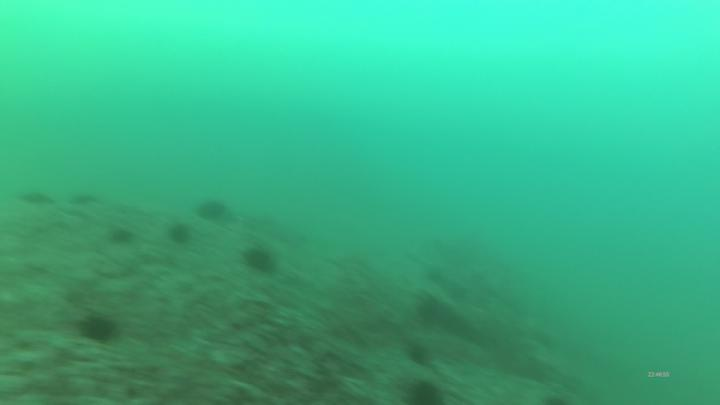echinus: (79, 310, 116, 347), (403, 378, 446, 405), (240, 244, 277, 275), (197, 198, 229, 222), (406, 343, 435, 368), (170, 221, 195, 247), (19, 189, 53, 206), (107, 226, 134, 247), (70, 191, 101, 209)
